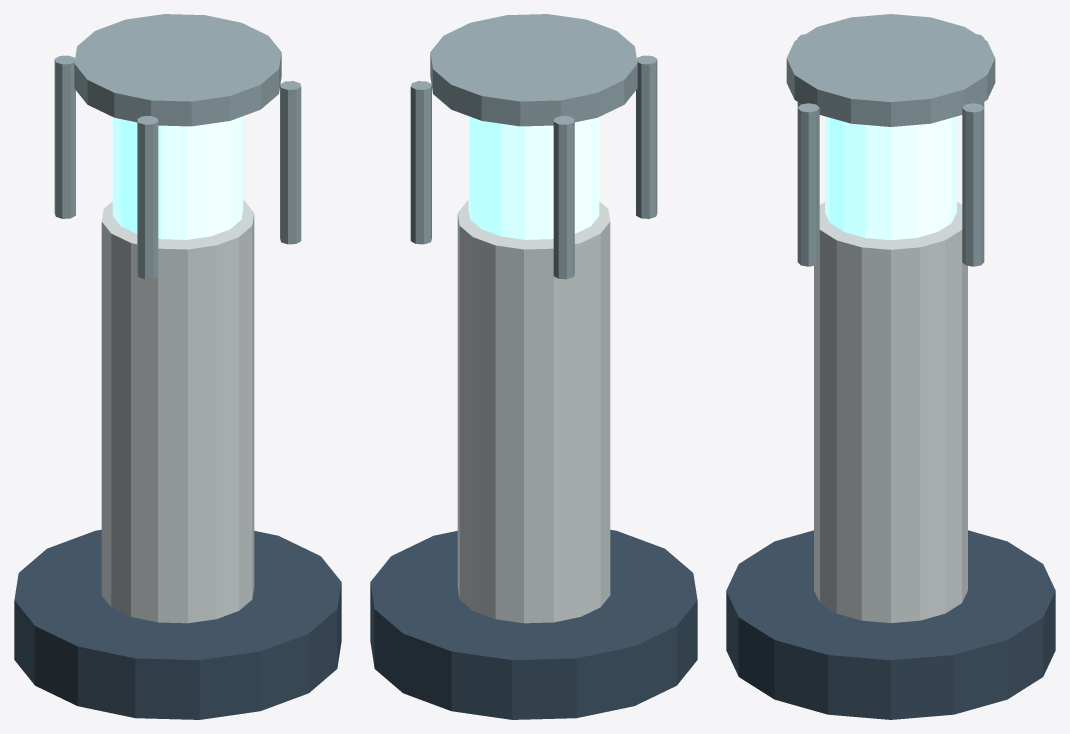
Rendered from orbital-field-station-landing-approach-beacon__159.glb.
3 renders of one model, left to right at view 1: azimuth 30°, elevation 25°; view 2: azimuth 150°, elevation 25°; view 3: azimuth 270°, elevation 25°, orthographic.
Parts seen in each view (by area): view 1: shell, dark, metal, light; view 2: shell, dark, metal, light; view 3: shell, dark, metal, light.
Boxes of the visible parts, x1,y1,x2,y2 form: shell: [101, 200, 254, 623]; dark: [14, 530, 341, 719]; metal: [54, 14, 301, 279]; light: [112, 116, 243, 239]; shell: [457, 200, 610, 623]; dark: [370, 530, 697, 719]; metal: [410, 14, 657, 279]; light: [468, 116, 599, 239]; shell: [814, 202, 967, 622]; dark: [726, 530, 1055, 719]; metal: [786, 14, 995, 266]; light: [825, 116, 956, 240].
Bounding box in the file's own units: 0.6 × 1.19 × 0.6.
